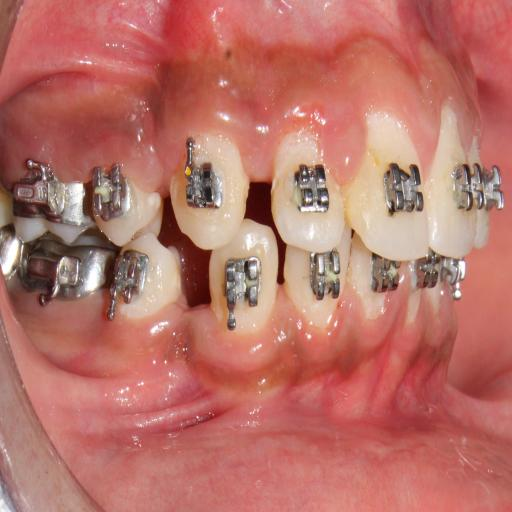correct_brace: (180, 140, 229, 214), (377, 156, 426, 216), (282, 160, 330, 216)
incorrect_brace: (266, 127, 346, 250)
